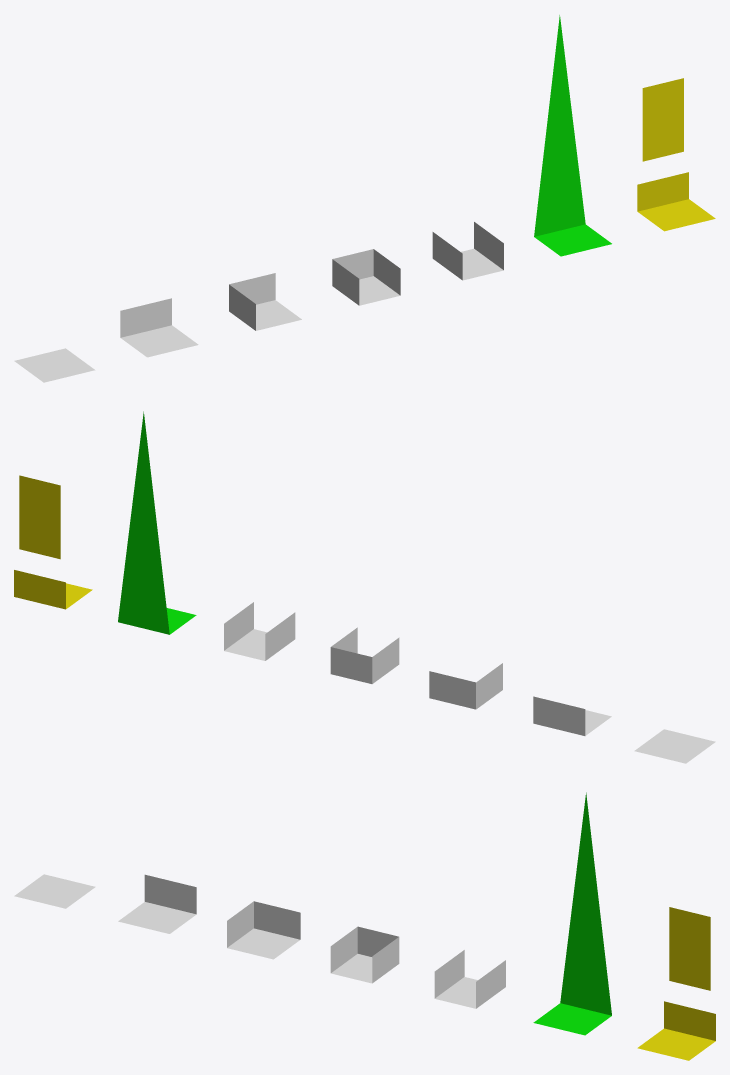
The model's file is grid_library_source.glb.
The picture shows the model from 3 angles, top to bottom: view 1: azimuth 30°, elevation 25°; view 2: azimuth 150°, elevation 25°; view 3: azimuth 330°, elevation 25°; orthographic projection.
Visible parts, largest first — view 1: Ladder, Alarm, DeadEnd, Wall, Corner, Passage, Floor; view 2: Ladder, Alarm, Passage, DeadEnd, Corner, Wall, Floor; view 3: Ladder, Alarm, Corner, DeadEnd, Wall, Passage, Floor.
Boxes of the visible parts, left/top/right/bottom form: Ladder: left=534, top=15, right=611, bottom=256; Alarm: left=637, top=78, right=715, bottom=231; DeadEnd: left=332, top=249, right=400, bottom=305; Wall: left=120, top=298, right=198, bottom=357; Corner: left=229, top=273, right=301, bottom=330; Passage: left=432, top=222, right=503, bottom=280; Floor: left=14, top=348, right=95, bottom=382; Ladder: left=118, top=411, right=196, bottom=634; Alarm: left=14, top=475, right=92, bottom=609; Passage: left=224, top=602, right=295, bottom=660; DeadEnd: left=330, top=627, right=399, bottom=683; Corner: left=429, top=663, right=502, bottom=709; Wall: left=533, top=696, right=611, bottom=735; Floor: left=634, top=729, right=715, bottom=763; Ladder: left=533, top=792, right=611, bottom=1035; Alarm: left=637, top=907, right=715, bottom=1060; Corner: left=227, top=901, right=300, bottom=959; DeadEnd: left=330, top=926, right=399, bottom=983; Wall: left=118, top=874, right=196, bottom=933; Passage: left=434, top=950, right=505, bottom=1008; Floor: left=14, top=874, right=95, bottom=908.
Size of the model in its own units: 13 by 4 by 1.
